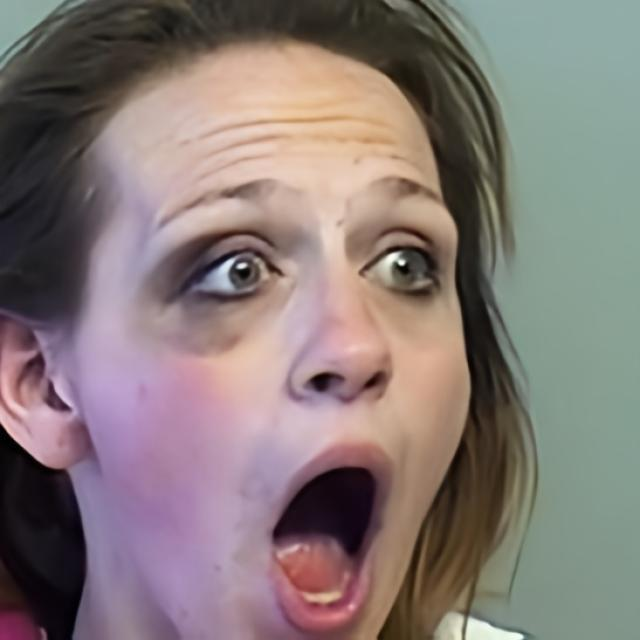fear: (83, 37, 475, 640)
